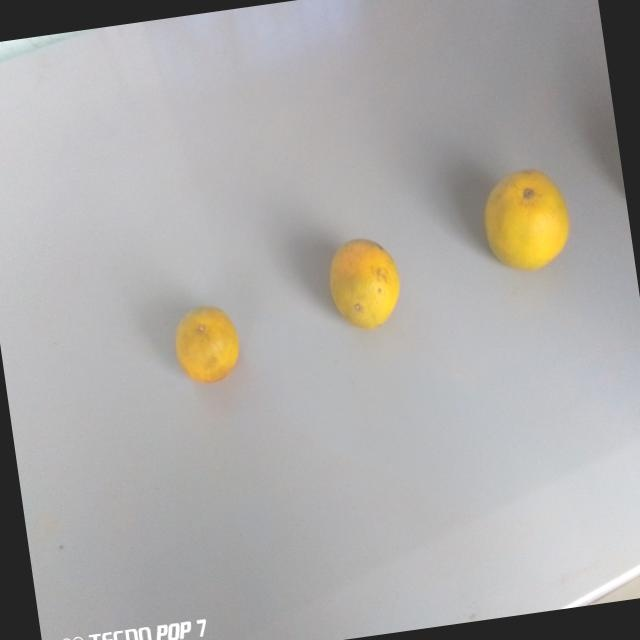agrume: (475, 161, 580, 283), (318, 223, 410, 341), (163, 294, 253, 394)
